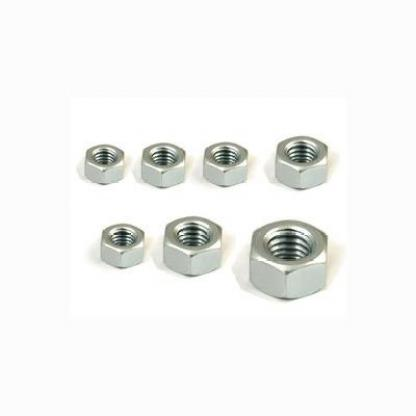FOD: (248, 218, 330, 298), (162, 214, 224, 280), (274, 136, 331, 190), (138, 142, 190, 192), (201, 141, 250, 191), (99, 223, 146, 270), (80, 142, 126, 187)
